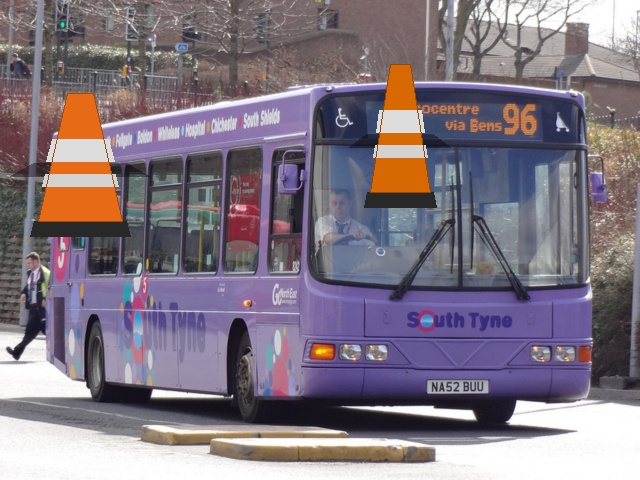traffic-cone: (30, 93, 130, 236), (364, 64, 436, 207)
